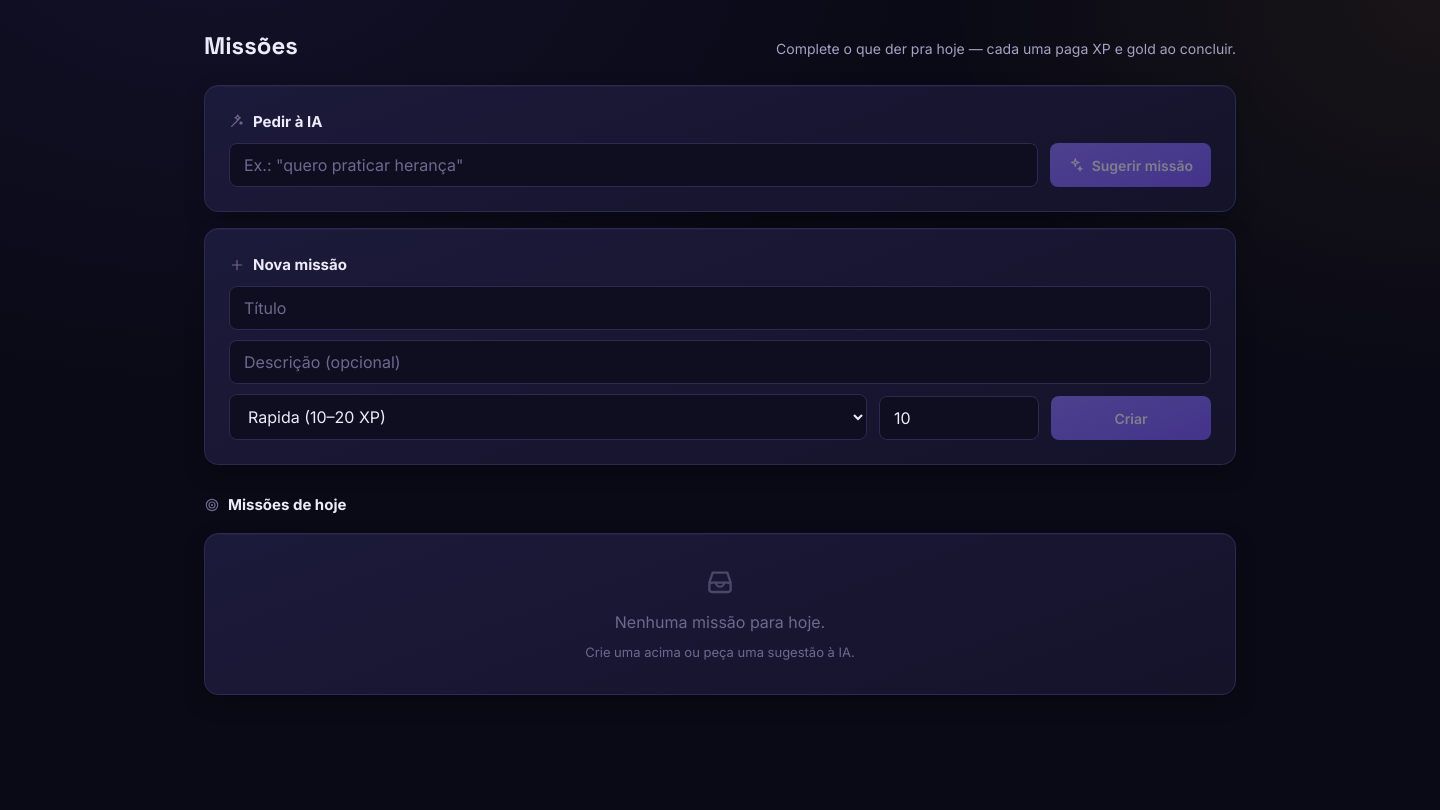
Test: Missoes — criar missão manual (validação da faixa de XP, RN04) › trocar de esforço atualiza a faixa de XP sugerida
The width and height of the screenshot is (1440, 810).
Expected: the number field showing "10" is shown, 879,396 -> 1039,440
Select "Media (30–60 XP)" in the dropdown showing "Rapida" at (548, 417), box 229,394 -> 867,440
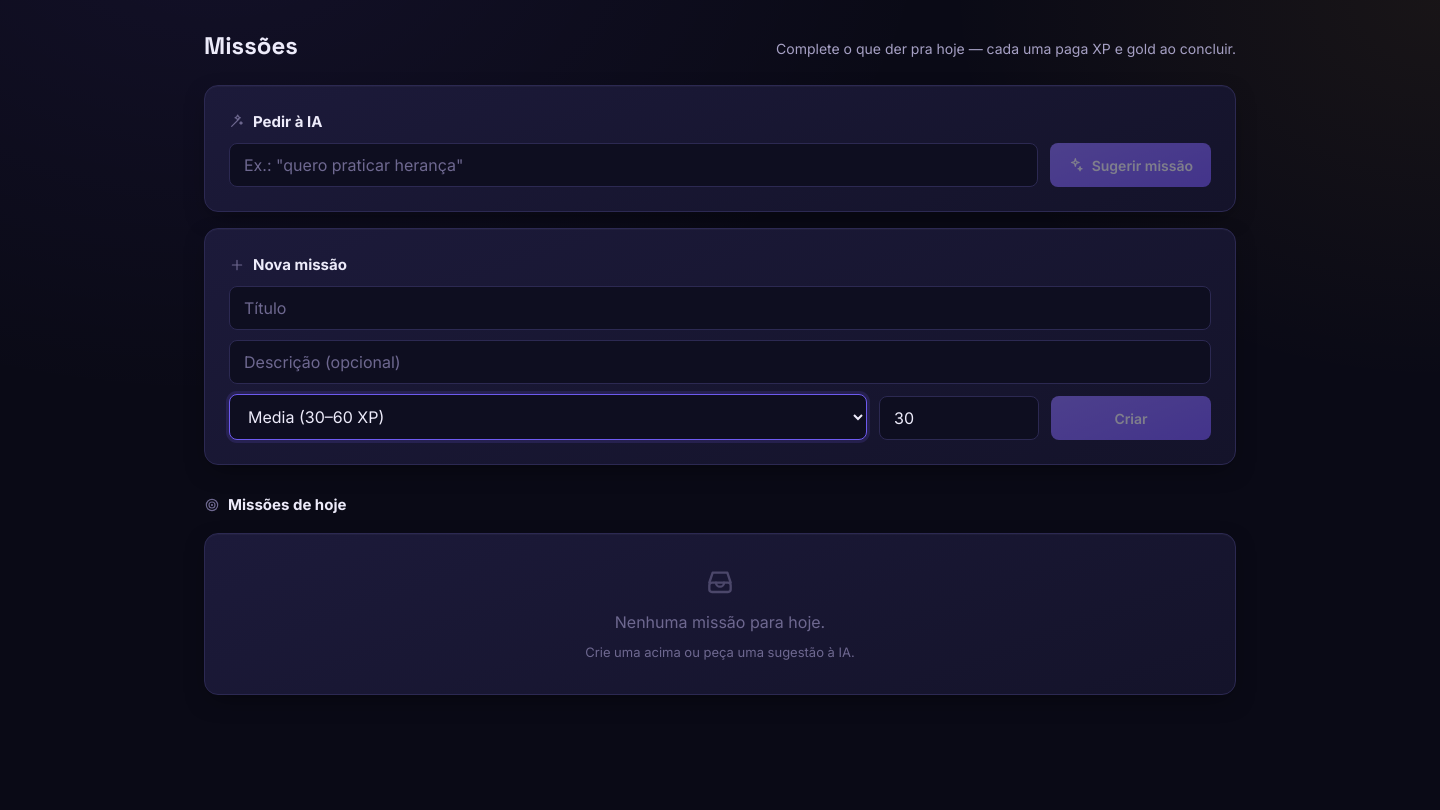
Expected: the number field showing "30" is shown, 879,396 -> 1039,440
